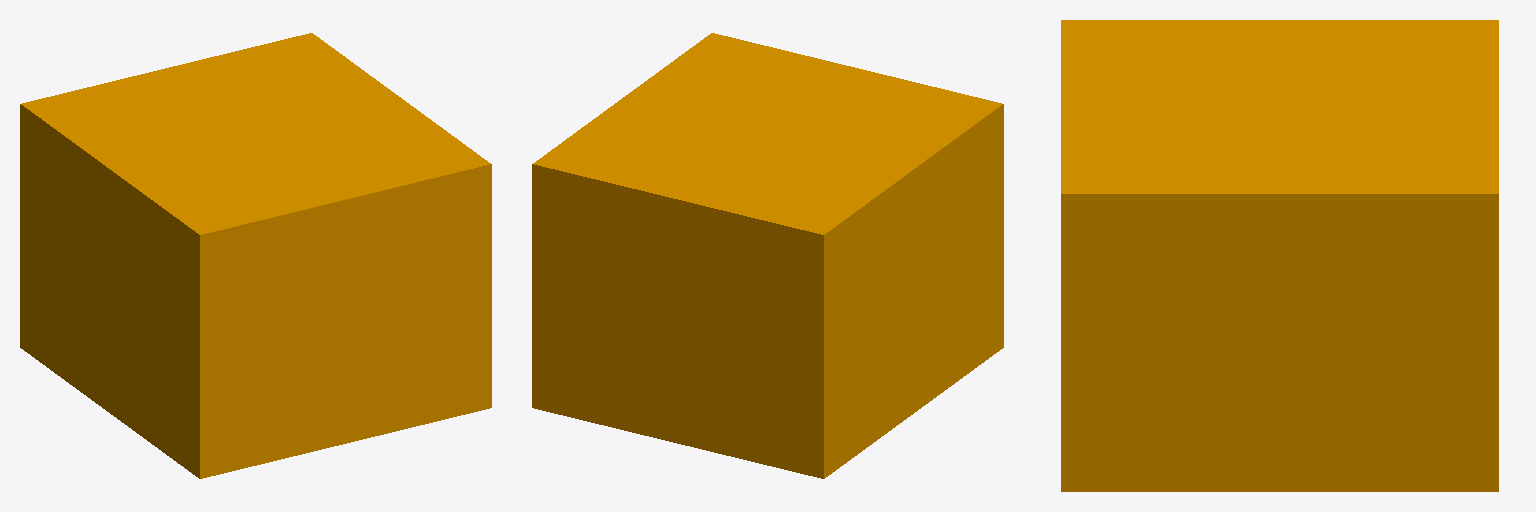
URDF robot description (2x2):
<?xml version='1.0' encoding='UTF-8'?>
<robot name="2x2">
  <link name="base_link">
    <inertial>
      <origin xyz="0.0 0.0 0.0" rpy="0.0 0.0 0.0"/>
      <mass value="0.01"/>
      <inertia ixx="0.1" ixy="0.0" ixz="0.0" iyy="0.1" iyz="0.0" izz="0.1"/>
    </inertial>
    <visual>
      <geometry>
        <box size="0.015 0.016 0.012"/>
      </geometry>
      <material name=""/>
      <origin xyz="0.0 0.0 0.0" rpy="0.0 0.0 0.0"/>
    </visual>
    <collision>
      <geometry>
        <box size="0.015 0.016 0.012"/>
      </geometry>
      <origin xyz="0.0 0.0 0.0" rpy="0.0 0.0 0.0"/>
    </collision>
  </link>
  <material name="">
    <color rgba="1. 1. 1. 1."/>
  </material>
  <contact>
    <lateral_friction value="1.0"/>
    <rolling_friction value="0.0"/>
    <contact_cfm value="0.0"/>
    <contact_erp value="1.0"/>
  </contact>
</robot>

--- What the picture shows (computed from the rendered views, not written in the file) ---
The picture shows the robot from 3 angles, left to right: view 1: azimuth 30°, elevation 25°; view 2: azimuth 150°, elevation 25°; view 3: azimuth 270°, elevation 25°; orthographic projection.
Model 2x2 with 1 links and 0 joints (none), rooted at base_link, posed every joint at zero.
Links seen in each view (by area): view 1: base_link; view 2: base_link; view 3: base_link.
Boxes of the visible links, x1,y1,x2,y2 form: base_link: [20, 33, 491, 478]; base_link: [532, 33, 1003, 478]; base_link: [1061, 20, 1498, 491].
Bounding box of the posed robot: 0.015 × 0.016 × 0.012 m (x, y, z).
Geometry: primitives only (box / cylinder / sphere), no mesh files.